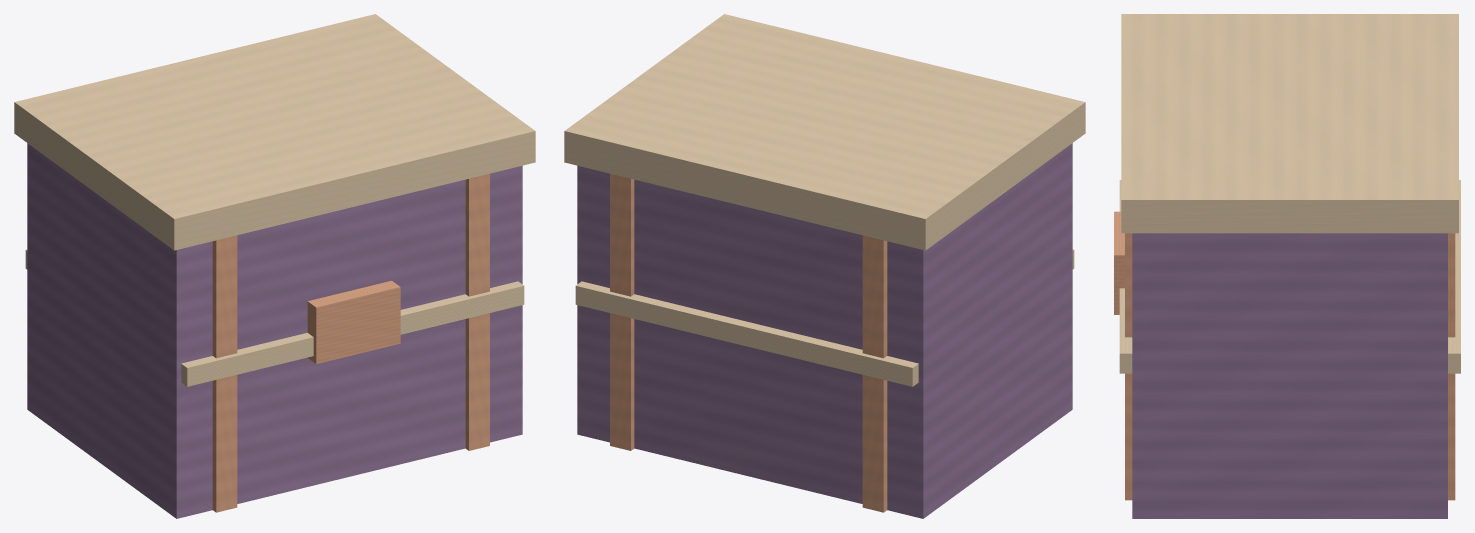
File: atlas100-papercraft-util02.glb
3 views of the same model, side by side, from view 1: azimuth 30°, elevation 25°; view 2: azimuth 150°, elevation 25°; view 3: azimuth 270°, elevation 25° (orthographic). The views are drawn at different scales.
Parts seen in each view (by area): view 1: atlas100-papercraft-util02:part-000, atlas100-papercraft-util02:part-005, atlas100-papercraft-util02:part-001, atlas100-papercraft-util02:part-004, atlas100-papercraft-util02:part-002, atlas100-papercraft-util02:part-006; view 2: atlas100-papercraft-util02:part-000, atlas100-papercraft-util02:part-005, atlas100-papercraft-util02:part-003, atlas100-papercraft-util02:part-001, atlas100-papercraft-util02:part-002; view 3: atlas100-papercraft-util02:part-000, atlas100-papercraft-util02:part-005, atlas100-papercraft-util02:part-002, atlas100-papercraft-util02:part-003, atlas100-papercraft-util02:part-006, atlas100-papercraft-util02:part-004.
Boxes of the visible parts, x1=… form: atlas100-papercraft-util02:part-000: x1=27, y1=143, x2=522, y2=518; atlas100-papercraft-util02:part-005: x1=14, y1=14, x2=535, y2=250; atlas100-papercraft-util02:part-001: x1=212, y1=235, x2=237, y2=512; atlas100-papercraft-util02:part-004: x1=181, y1=281, x2=524, y2=386; atlas100-papercraft-util02:part-002: x1=465, y1=173, x2=489, y2=450; atlas100-papercraft-util02:part-006: x1=307, y1=280, x2=400, y2=364; atlas100-papercraft-util02:part-000: x1=577, y1=143, x2=1072, y2=518; atlas100-papercraft-util02:part-005: x1=564, y1=14, x2=1085, y2=250; atlas100-papercraft-util02:part-003: x1=575, y1=281, x2=918, y2=386; atlas100-papercraft-util02:part-001: x1=862, y1=235, x2=887, y2=512; atlas100-papercraft-util02:part-002: x1=610, y1=173, x2=634, y2=450; atlas100-papercraft-util02:part-000: x1=1132, y1=233, x2=1447, y2=518; atlas100-papercraft-util02:part-005: x1=1121, y1=14, x2=1458, y2=233; atlas100-papercraft-util02:part-002: x1=1125, y1=233, x2=1455, y2=500; atlas100-papercraft-util02:part-003: x1=1448, y1=180, x2=1460, y2=373; atlas100-papercraft-util02:part-006: x1=1114, y1=211, x2=1124, y2=314; atlas100-papercraft-util02:part-004: x1=1119, y1=180, x2=1132, y2=373.
Bounding box in the file's own units: 1.34 × 1.08 × 1.05.
3 materials, 3 textured.
